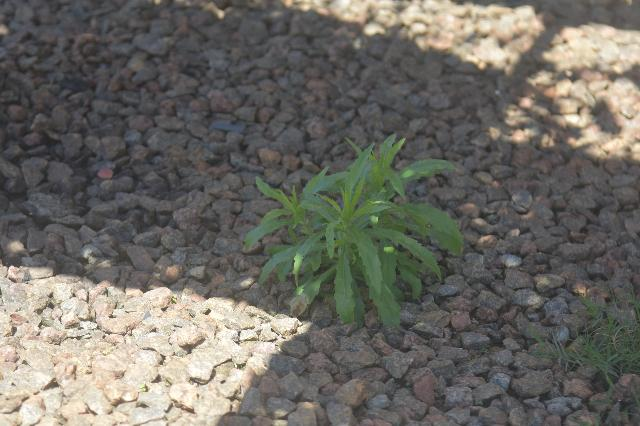MalezaMontesDelPlata: (239, 131, 474, 330)
